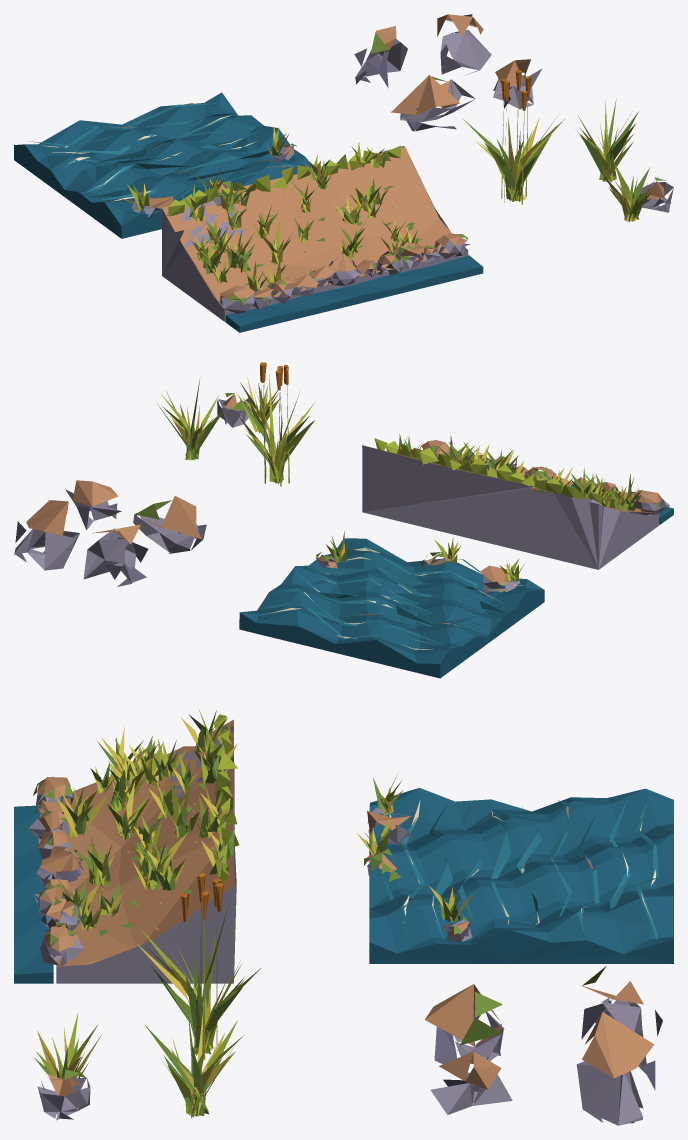
The model's file is kit.river-terrain.lod1.glb.
3 renders of one model, top to bottom at view 1: azimuth 30°, elevation 25°; view 2: azimuth 150°, elevation 25°; view 3: azimuth 270°, elevation 25°, orthographic. The views are drawn at different scales.
Visible parts, largest first — view 1: slopedBank, waterSurface, rocks, reeds; view 2: waterSurface, slopedBank, rocks, reeds; view 3: waterSurface, slopedBank, rocks, reeds.
Boxes of the visible parts, <box> form: slopedBank: <box>162,142,483,332</box>; waterSurface: <box>14,92,311,238</box>; rocks: <box>354,14,542,131</box>; reeds: <box>463,70,673,222</box>; waterSurface: <box>239,531,544,678</box>; slopedBank: <box>362,433,673,569</box>; rocks: <box>14,480,206,586</box>; reeds: <box>157,362,315,486</box>; waterSurface: <box>357,777,673,963</box>; slopedBank: <box>14,710,238,983</box>; rocks: <box>425,966,662,1125</box>; reeds: <box>33,872,260,1120</box>.
Bounding box in the file's own units: 9.11 × 2.29 × 7.8.
